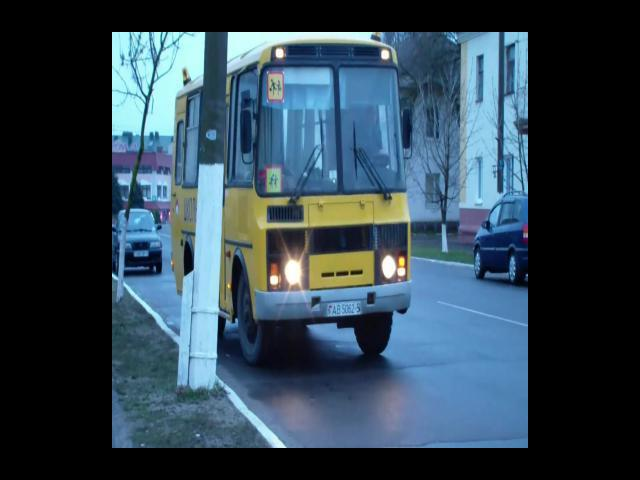bus: (170, 39, 412, 381)
car: (471, 188, 528, 278), (112, 203, 164, 276)
